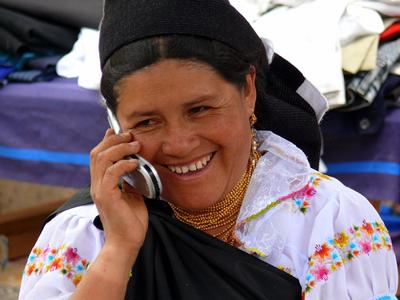person: (18, 2, 399, 299)
